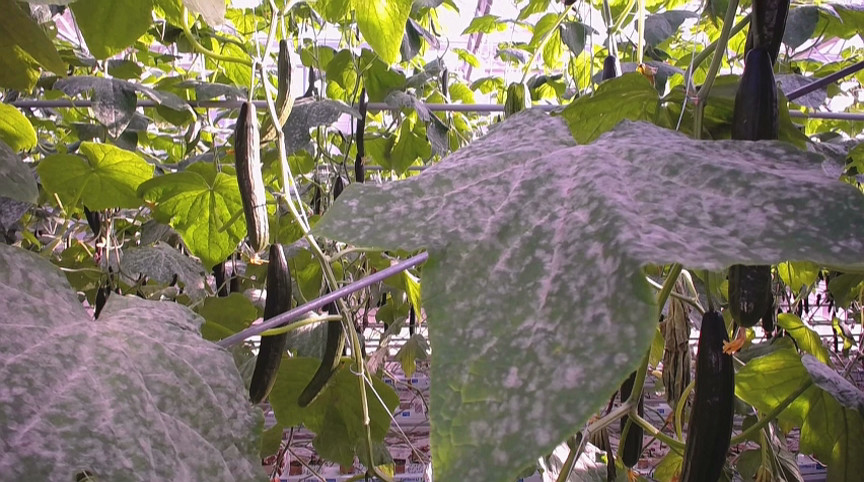cucumber: (727, 43, 776, 328), (680, 309, 735, 481), (250, 242, 293, 406), (232, 99, 270, 257), (297, 305, 346, 408), (259, 37, 302, 148), (621, 375, 646, 469), (600, 55, 624, 84)
